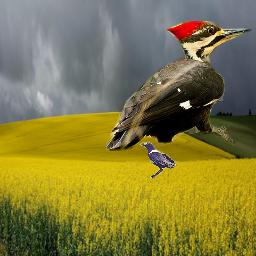Crow: (140, 142, 178, 178)
Woodpecker: (106, 21, 255, 151)
